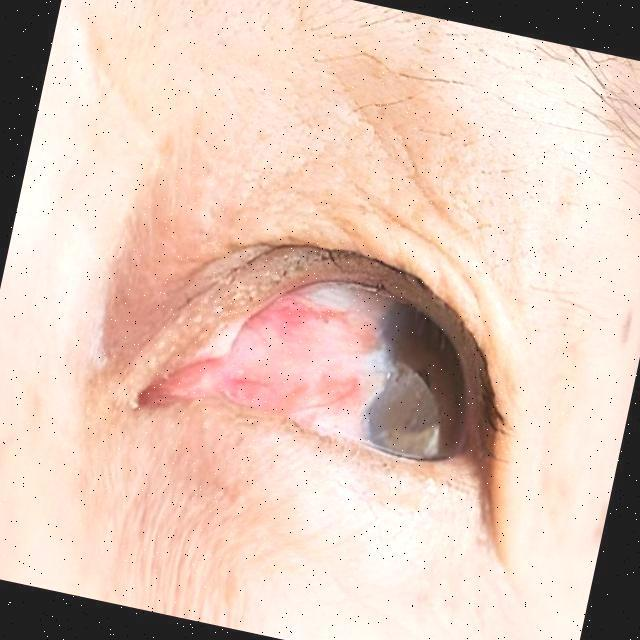Pterygium: (183, 264, 413, 468)
